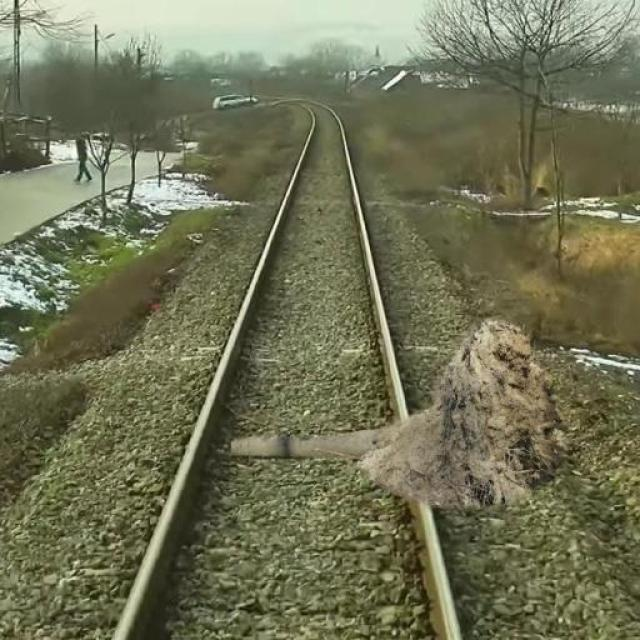Branches: (221, 413, 454, 474)
